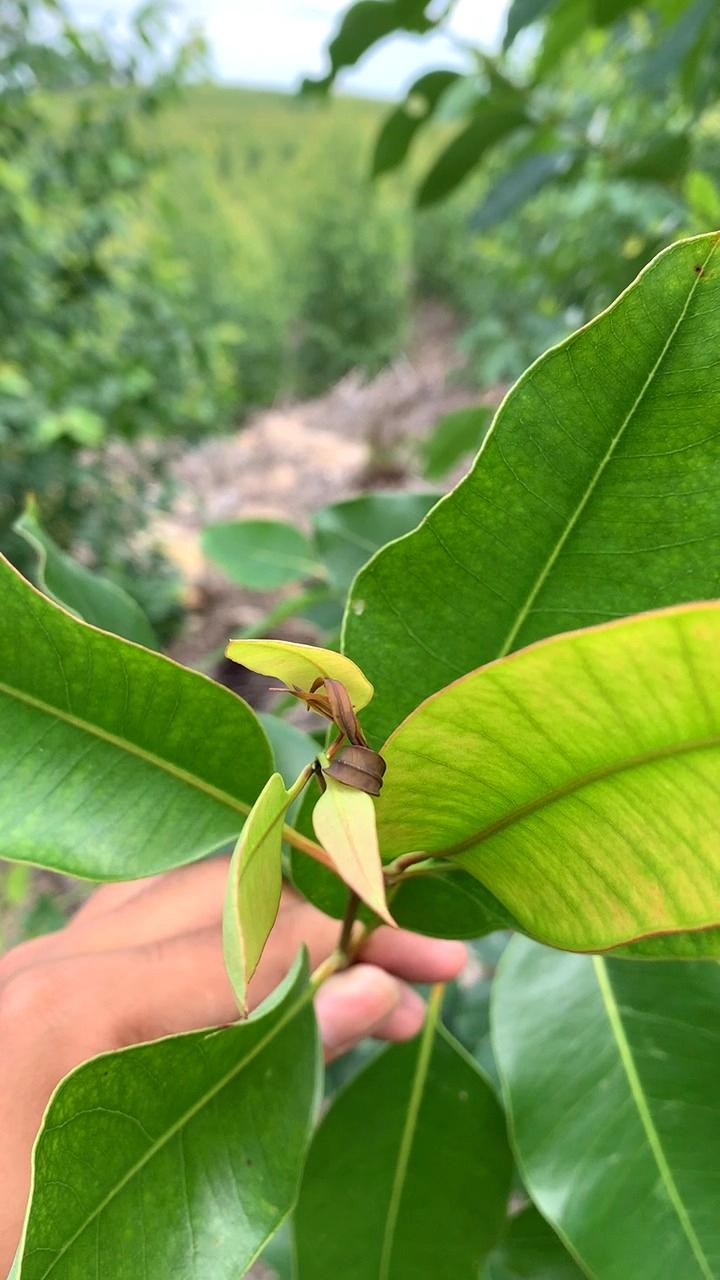Helopeltis-Withered Sprout: (295, 670, 394, 798)
